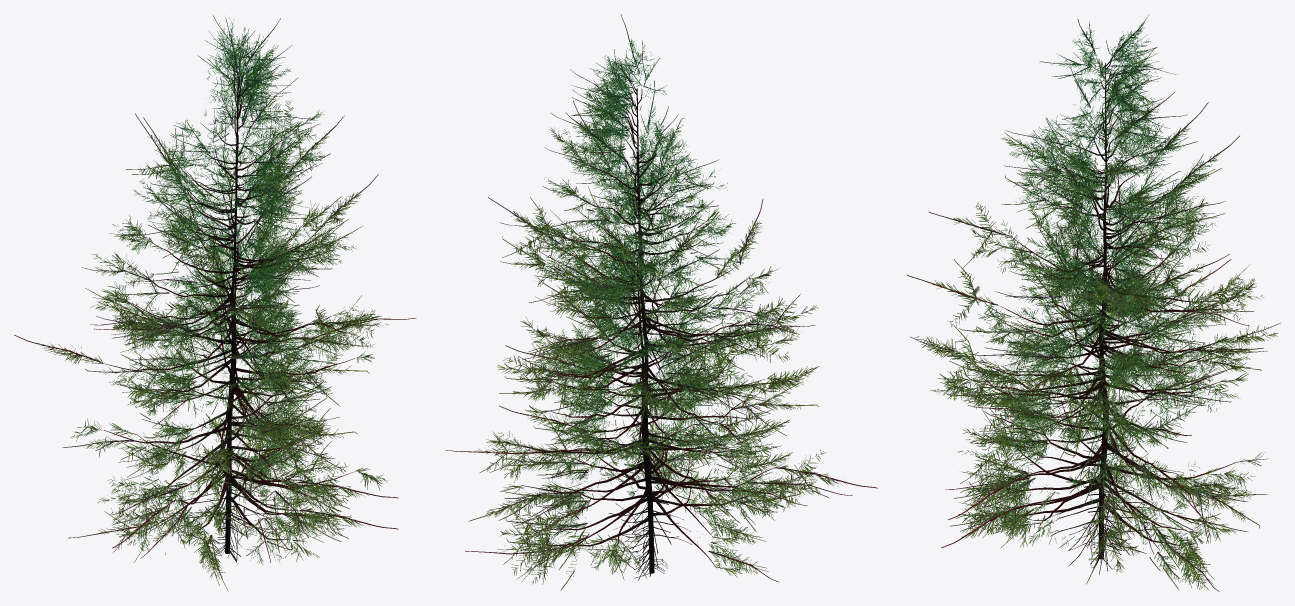
Rendered from fir_sapling_medium.gltf.
3 views of the same model, side by side, from view 1: azimuth 30°, elevation 25°; view 2: azimuth 150°, elevation 25°; view 3: azimuth 270°, elevation 25° (orthographic). The views are drawn at different scales.
Parts seen in each view (by area): view 1: fir_sapling_medium_a_LOD0, fir_sapling_medium_b_LOD0, fir_sapling_medium_c_LOD0; view 2: fir_sapling_medium_a_LOD0, fir_sapling_medium_b_LOD0, fir_sapling_medium_c_LOD0; view 3: fir_sapling_medium_a_LOD0, fir_sapling_medium_b_LOD0, fir_sapling_medium_c_LOD0.
Boxes of the visible parts, box(x1,y1,x2,y2) form: fir_sapling_medium_a_LOD0: box(14, 14, 416, 591); fir_sapling_medium_b_LOD0: box(97, 89, 398, 562); fir_sapling_medium_c_LOD0: box(68, 184, 398, 565); fir_sapling_medium_a_LOD0: box(445, 14, 877, 579); fir_sapling_medium_b_LOD0: box(499, 80, 790, 581); fir_sapling_medium_c_LOD0: box(465, 201, 807, 590); fir_sapling_medium_a_LOD0: box(906, 15, 1280, 567); fir_sapling_medium_b_LOD0: box(945, 67, 1247, 584); fir_sapling_medium_c_LOD0: box(941, 187, 1248, 591).
Size of the model in its own units: 5.76 by 9.14 by 5.44.
3 materials, 3 textured.
